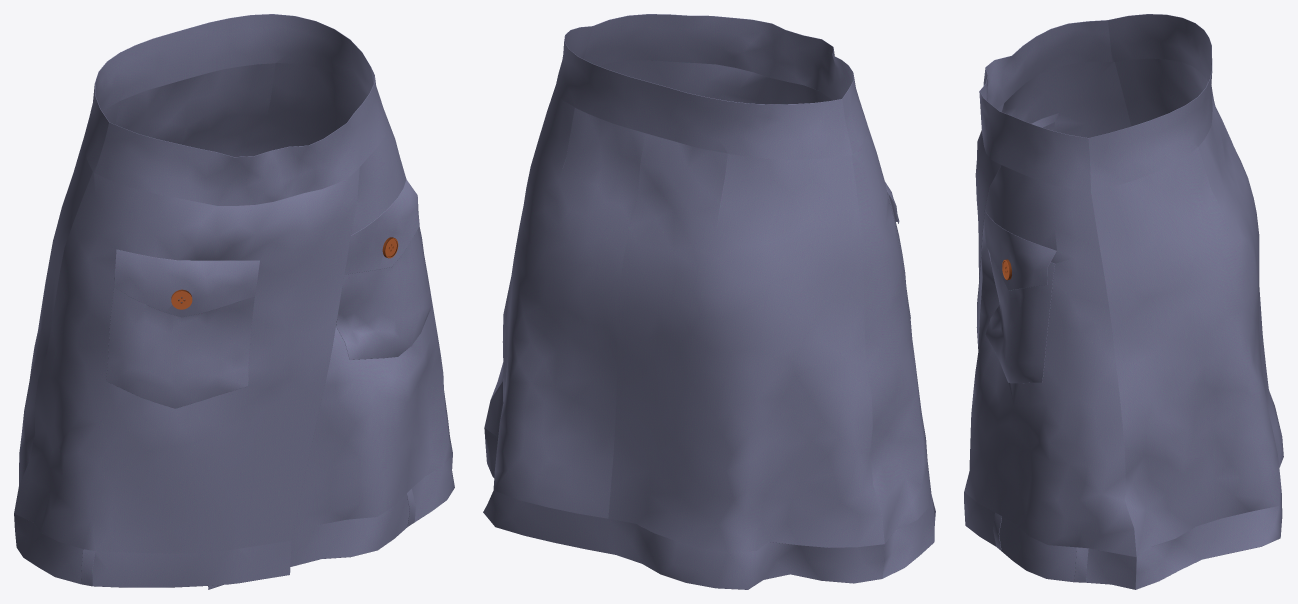
3 renders of one model, left to right at view 1: azimuth 30°, elevation 25°; view 2: azimuth 150°, elevation 25°; view 3: azimuth 270°, elevation 25°, orthographic. The views are drawn at different scales.
Parts seen in each view (by area): view 1: Pattern2D_17475, Pattern2D_17476, Pattern2D_300162, Pattern2D_300151, Pattern2D_263568, Pattern2D_408232, Pattern2D_57088, Pattern2D_408229, Pattern2D_408230, Pattern2D_408235, Pattern2D_408224, Pattern2D_408234; view 2: Pattern2D_408229, Pattern2D_263568, Pattern2D_17475, Pattern2D_300151, Pattern2D_408225, Pattern2D_300162, Pattern2D_17476, Pattern2D_57088; view 3: Pattern2D_263568, Pattern2D_17476, Pattern2D_300151, Pattern2D_300162, Pattern2D_17475, Pattern2D_408229, Pattern2D_408225, Pattern2D_408224, Pattern2D_408230, Pattern2D_408234, Pattern2D_408227.
Boxes of the visible parts, x1,y1,x2,y2 form: Pattern2D_17475: (14,168,359,553); Pattern2D_17476: (293,119,452,532); Pattern2D_300162: (94,66,388,205); Pattern2D_300151: (84,14,373,172); Pattern2D_263568: (181,63,367,156); Pattern2D_408232: (106,284,254,408); Pattern2D_57088: (14,514,291,587); Pattern2D_408229: (19,77,192,485); Pattern2D_408230: (336,229,431,359); Pattern2D_408235: (114,249,259,317); Pattern2D_408224: (208,454,454,589); Pattern2D_408234: (344,179,419,274); Pattern2D_408229: (608,133,884,553); Pattern2D_263568: (484,86,645,518); Pattern2D_17475: (793,83,931,543); Pattern2D_300151: (555,26,852,159); Pattern2D_408225: (483,428,884,589); Pattern2D_300162: (583,14,868,153); Pattern2D_17476: (491,60,832,398); Pattern2D_57088: (882,494,934,578); Pattern2D_263568: (1091,112,1281,556); Pattern2D_17476: (964,103,1136,557); Pattern2D_300151: (1088,14,1212,192); Pattern2D_300162: (979,20,1111,192); Pattern2D_17475: (975,61,1131,348); Pattern2D_408229: (1115,58,1275,433); Pattern2D_408225: (1135,408,1283,589); Pattern2D_408224: (964,492,1136,589); Pattern2D_408230: (985,254,1055,383); Pattern2D_408234: (984,211,1056,290); Pattern2D_408227: (1074,547,1088,582).
Bounding box in the file's own units: 44.19 × 48.22 × 30.95.
